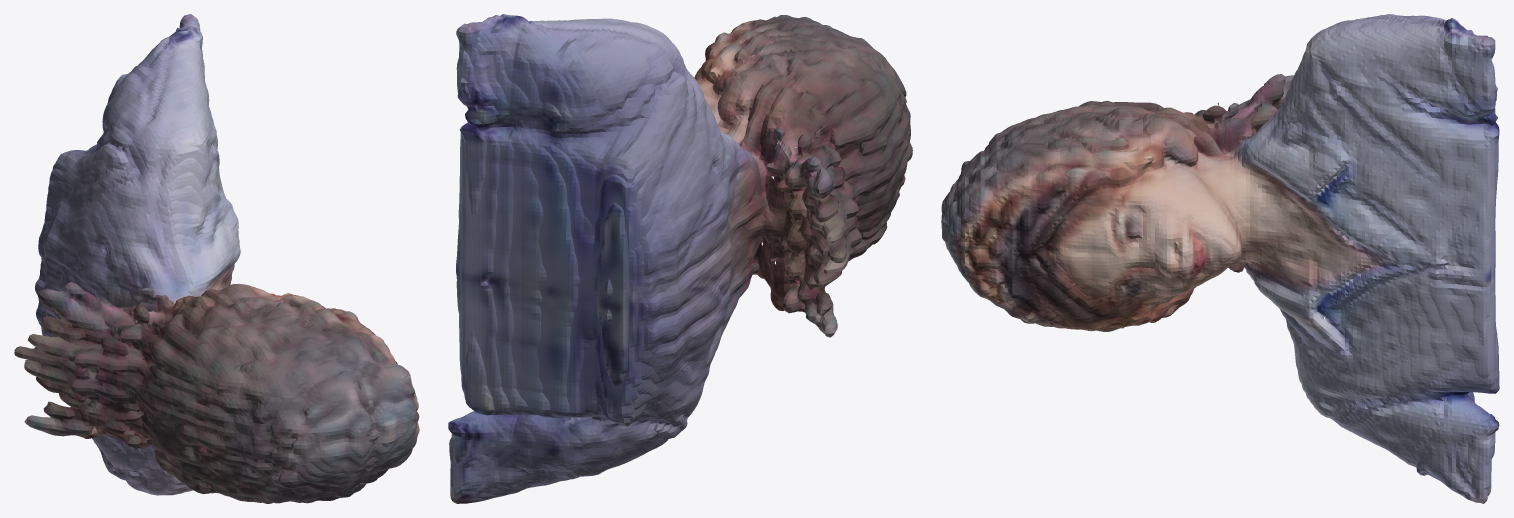
Rendered from ritika.glb.
The picture shows the model from 3 angles, left to right: view 1: azimuth 30°, elevation 25°; view 2: azimuth 150°, elevation 25°; view 3: azimuth 270°, elevation 25°; orthographic projection. The views are drawn at different scales.
Visible parts, largest first — view 1: world; view 2: world; view 3: world.
Part boxes in pixels (<box>): world: <box>14,14,419,503</box>; world: <box>448,14,912,503</box>; world: <box>941,14,1499,503</box>.
Size of the model in its own units: 0.5739 by 0.8786 by 0.9615.
